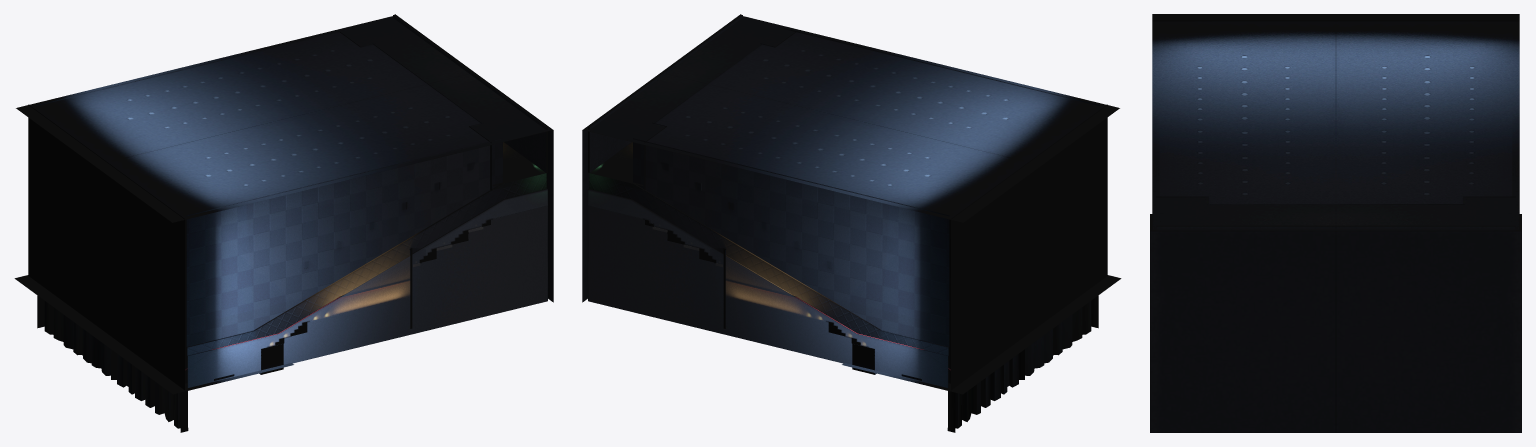
Rendered from Sala_Baked_04.obj.
3 renders of one model, left to right at view 1: azimuth 30°, elevation 25°; view 2: azimuth 150°, elevation 25°; view 3: azimuth 270°, elevation 25°, orthographic. The views are drawn at different scales.
Parts seen in each view (by area): view 1: Sala_Baked_01:SalaCinema_Low_Sala_Baked_01:tectoChao_Sala_Baked, Sala_Baked_01:SalaCinema_Low_Sala_Baked_01:paredes_Sala_Baked_0, Sala_Baked_01:Lowpoly_Posicionado1_Props_Sala_Baked_01:SalaCine, Sala_Baked_01:Escadas1_Sala_Baked_01:SalaCinema_Low_Sala_Baked_; view 2: Sala_Baked_01:SalaCinema_Low_Sala_Baked_01:tectoChao_Sala_Baked, Sala_Baked_01:SalaCinema_Low_Sala_Baked_01:paredes_Sala_Baked_0, Sala_Baked_01:Lowpoly_Posicionado1_Props_Sala_Baked_01:SalaCine, Sala_Baked_01:Escadas1_Sala_Baked_01:SalaCinema_Low_Sala_Baked_; view 3: Sala_Baked_01:SalaCinema_Low_Sala_Baked_01:tectoChao_Sala_Baked, Sala_Baked_01:SalaCinema_Low_Sala_Baked_01:paredes_Sala_Baked_0.
Part boxes in pixels (<box>): Sala_Baked_01:SalaCinema_Low_Sala_Baked_01:tectoChao_Sala_Baked: <box>14,14,553,394</box>; Sala_Baked_01:SalaCinema_Low_Sala_Baked_01:paredes_Sala_Baked_0: <box>36,28,547,387</box>; Sala_Baked_01:Lowpoly_Posicionado1_Props_Sala_Baked_01:SalaCine: <box>37,182,439,432</box>; Sala_Baked_01:Escadas1_Sala_Baked_01:SalaCinema_Low_Sala_Baked_: <box>275,219,490,345</box>; Sala_Baked_01:SalaCinema_Low_Sala_Baked_01:tectoChao_Sala_Baked: <box>582,14,1121,394</box>; Sala_Baked_01:SalaCinema_Low_Sala_Baked_01:paredes_Sala_Baked_0: <box>588,28,1099,387</box>; Sala_Baked_01:Lowpoly_Posicionado1_Props_Sala_Baked_01:SalaCine: <box>696,182,1098,432</box>; Sala_Baked_01:Escadas1_Sala_Baked_01:SalaCinema_Low_Sala_Baked_: <box>645,219,860,345</box>; Sala_Baked_01:SalaCinema_Low_Sala_Baked_01:tectoChao_Sala_Baked: <box>1150,14,1521,432</box>; Sala_Baked_01:SalaCinema_Low_Sala_Baked_01:paredes_Sala_Baked_0: <box>1156,196,1515,204</box>.
Size of the model in its own units: 15.21 by 8.45 by 10.97.
4 materials, 4 textured.
